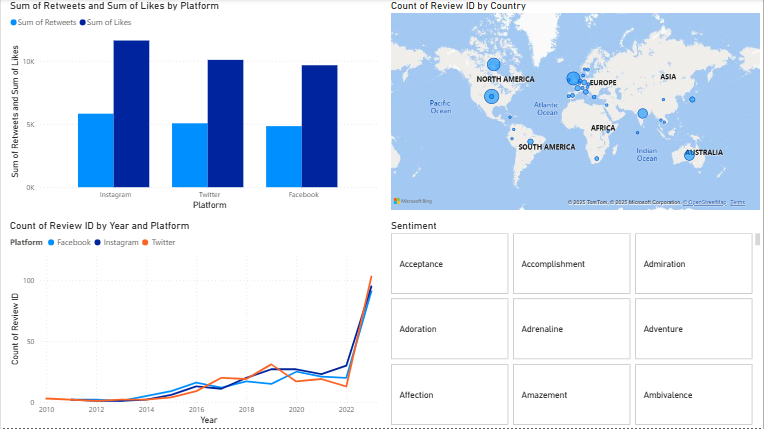

This screenshot's page, from the dashboard's own definition file:
{"tool":"powerbi","page":{"name":"Dashboard","canvas":[1280,720],"ordinal":0},"visuals":[{"type":"clusteredColumnChart","fields":{"Category":["Sentiment dataset.Platform"],"Y":["Sum(Sentiment dataset.Retweets)","Sum(Sentiment dataset.Likes)"]},"box":[10.1,0,629.9,359.5],"z":0},{"type":"lineChart","fields":{"Category":["Sentiment dataset.Timestamp.Variation.Date Hierarchy.Year","Sentiment dataset.Timestamp.Variation.Date Hierarchy.Quarter","Sentiment dataset.Timestamp.Variation.Date Hierarchy.Month","Sentiment dataset.Timestamp.Variation.Date Hierarchy.Day"],"Series":["Sentiment dataset.Platform"],"Y":["CountNonNull(Sentiment dataset.Review ID)"]},"box":[10,369,630,351],"z":1},{"type":"map","fields":{"Category":["Sentiment dataset.Country"],"Size":["CountNonNull(Sentiment dataset.Review ID)"]},"box":[650,0,630,359],"z":2},{"type":"advancedSlicerVisual","fields":{"Values":["Sentiment dataset.Sentiment"]},"box":[650,369,630,351],"z":3}]}

Visuals, with their boxes in screenshot pixels (x1, y1, x2, y2), scaled from the page's 1280x720 canvas onto the 764x429 screenshot:
clusteredColumnChart - Sentiment dataset.Platform x Sum(Sentiment dataset.Retweets): (x1=6, y1=0, x2=382, y2=214)
lineChart - Sentiment dataset.Timestamp.Variation.Date Hierarchy.Year x Sentiment dataset.Timestamp.Variation.Date Hierarchy.Quarter: (x1=6, y1=220, x2=382, y2=428)
map - Sentiment dataset.Country x CountNonNull(Sentiment dataset.Review ID): (x1=388, y1=0, x2=763, y2=214)
advancedSlicerVisual - Sentiment dataset.Sentiment: (x1=388, y1=220, x2=763, y2=428)
